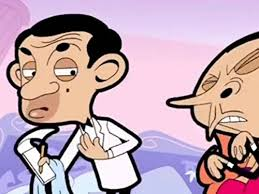mrbean: (5, 13, 142, 194)
